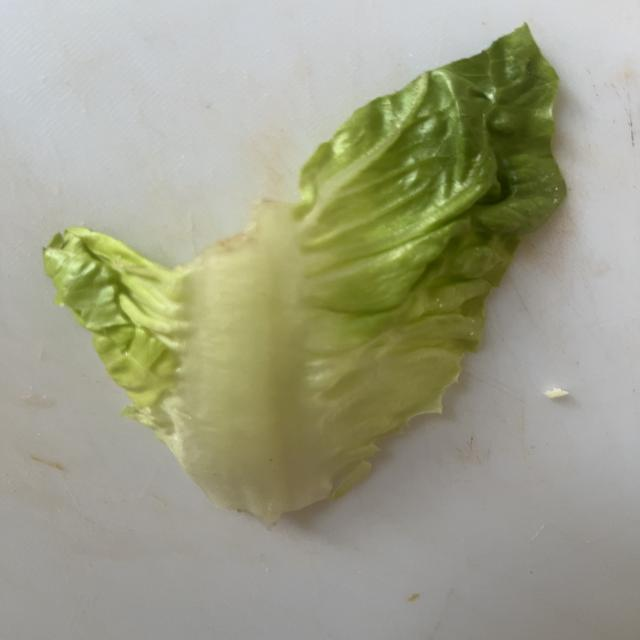lettuce: (44, 25, 566, 523)
